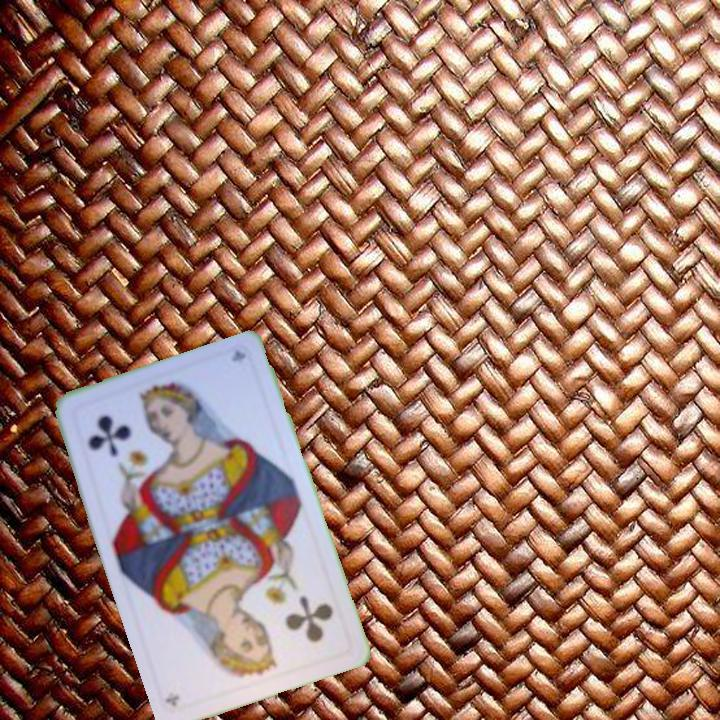c_q.png: (67, 378, 188, 490), (232, 571, 353, 683)
